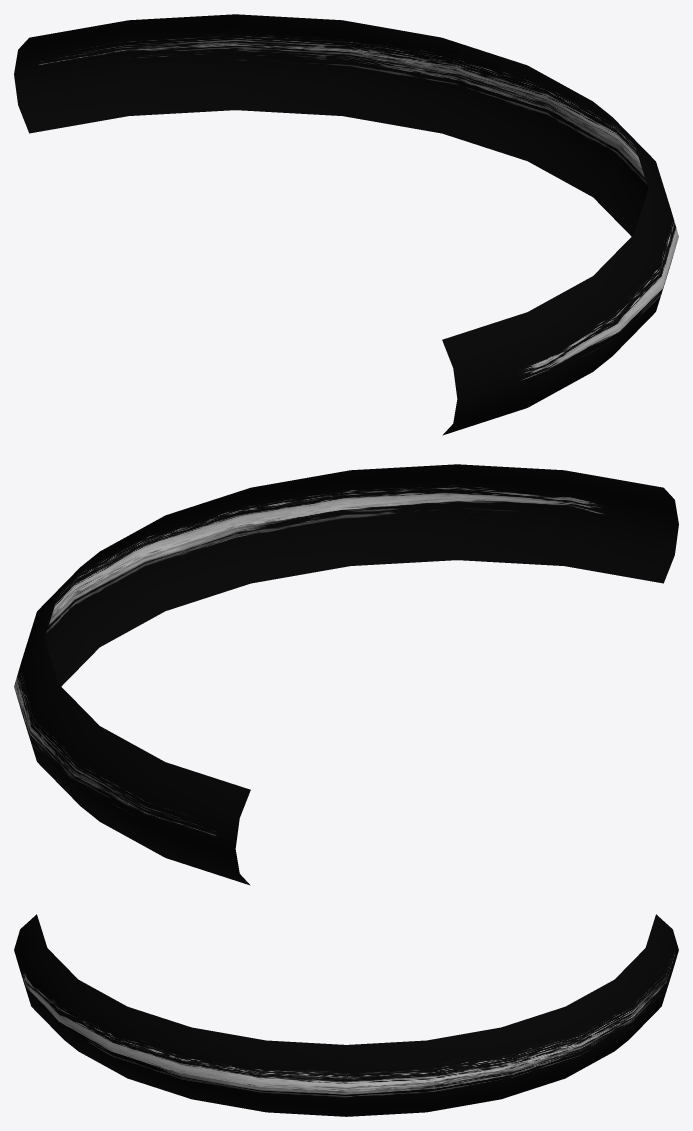
File: tui2.FBX
3 renders of one model, top to bottom at view 1: azimuth 30°, elevation 25°; view 2: azimuth 150°, elevation 25°; view 3: azimuth 270°, elevation 25°, orthographic. The views are drawn at different scales.
Visible parts, largest first — view 1: Torus01; view 2: Torus01; view 3: Torus01.
Boxes of the visible parts, x1,y1,x2,y2 form: Torus01: (14, 14, 678, 435); Torus01: (14, 464, 678, 885); Torus01: (14, 914, 678, 1116).
Size of the model in its own units: 47.42 by 11.32 by 94.84.
